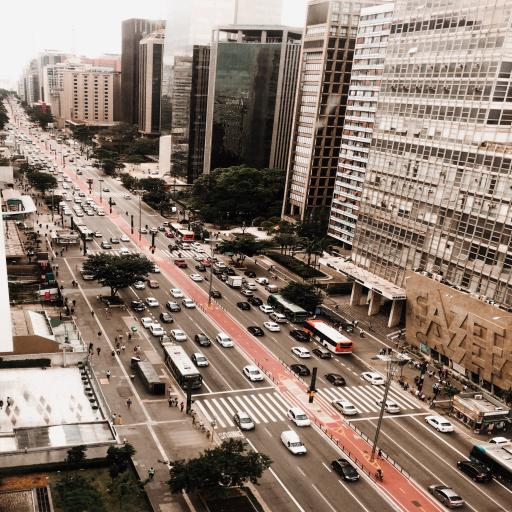bike: (376, 471, 383, 482)
car: (429, 485, 464, 507), (457, 461, 492, 482), (331, 459, 359, 480), (425, 416, 453, 432), (287, 408, 310, 426), (332, 400, 357, 415), (234, 412, 254, 429), (243, 365, 263, 381), (362, 372, 384, 385), (216, 333, 234, 348), (325, 373, 346, 385), (191, 353, 209, 366), (291, 364, 310, 375), (290, 330, 309, 341), (195, 334, 211, 346), (312, 348, 331, 358), (292, 347, 310, 357), (385, 401, 400, 413), (150, 324, 165, 336), (247, 326, 264, 336), (131, 301, 146, 312), (171, 330, 186, 341), (489, 437, 511, 444), (166, 301, 181, 311), (270, 313, 286, 322), (264, 322, 280, 331), (248, 297, 263, 306), (160, 312, 173, 322), (141, 318, 153, 328), (182, 299, 195, 308), (146, 298, 159, 307), (170, 289, 183, 298), (259, 305, 273, 313), (243, 282, 256, 290), (237, 302, 250, 310), (174, 260, 187, 267), (256, 278, 269, 285), (148, 280, 159, 288), (190, 274, 202, 281), (244, 271, 256, 278), (178, 242, 190, 249), (101, 241, 111, 249), (216, 262, 227, 269), (211, 291, 222, 298), (224, 268, 235, 275), (241, 290, 253, 296), (120, 235, 130, 242), (212, 268, 222, 275), (217, 275, 228, 281), (195, 265, 206, 271), (120, 248, 129, 255), (201, 260, 211, 266), (195, 247, 204, 253), (193, 255, 202, 261), (86, 210, 94, 216), (140, 229, 149, 234), (110, 238, 119, 243), (165, 232, 174, 237), (76, 211, 84, 216), (62, 184, 70, 189), (95, 232, 102, 237), (158, 227, 166, 231), (151, 171, 159, 175), (79, 191, 85, 196), (66, 178, 72, 182), (124, 195, 130, 199), (57, 178, 63, 182), (77, 170, 82, 174), (116, 177, 121, 181), (103, 188, 109, 191), (81, 164, 86, 167)
